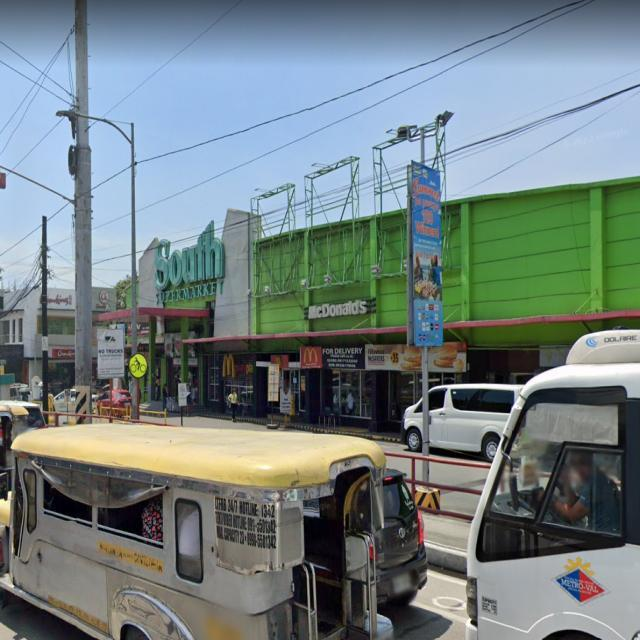bike lane: (127, 349, 154, 384)
